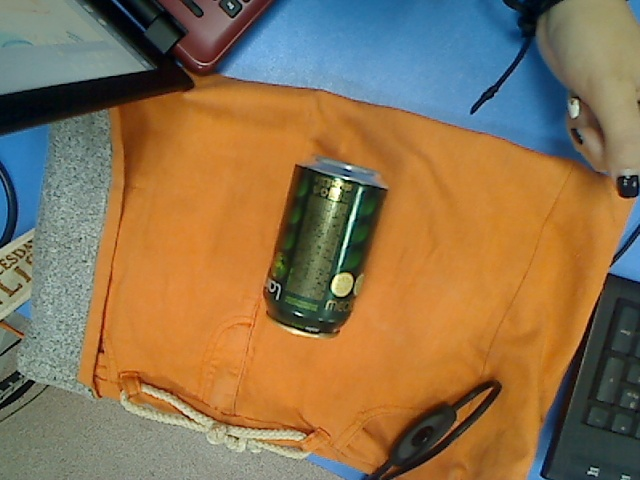can: (261, 154, 392, 340)
